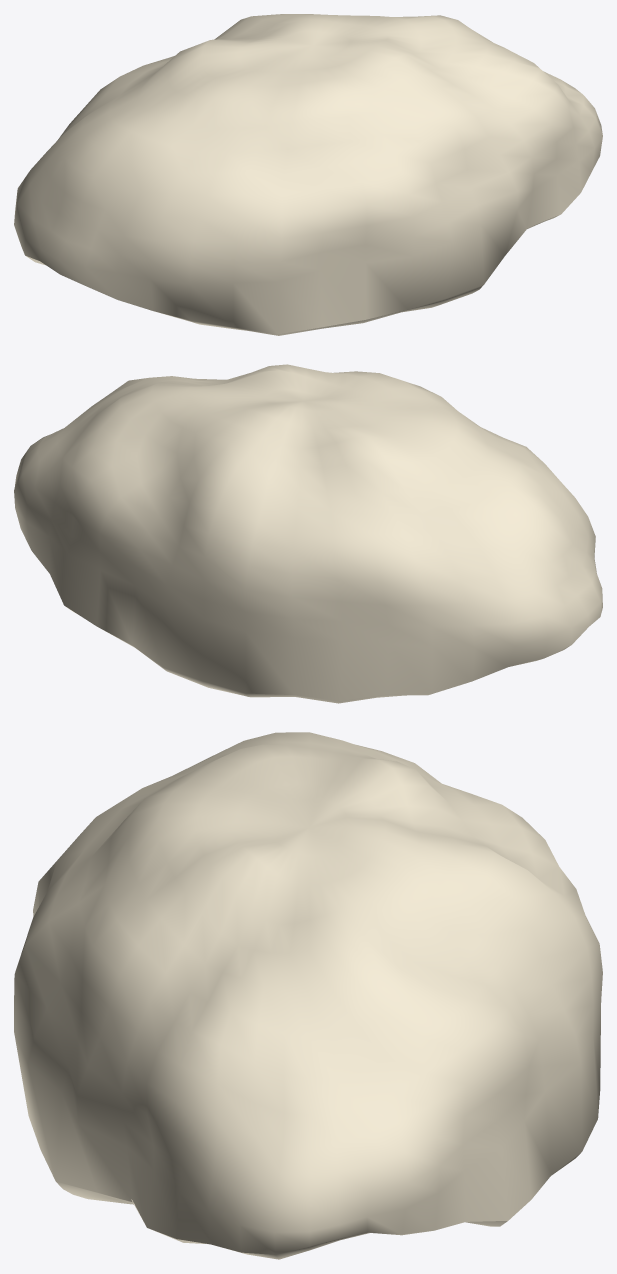
The model's file is cowrie_c5.glb.
3 views of the same model, one above another, from view 1: azimuth 30°, elevation 25°; view 2: azimuth 150°, elevation 25°; view 3: azimuth 270°, elevation 25° (orthographic). The views are drawn at different scales.
Visible parts, largest first — view 1: cowrie_c5; view 2: cowrie_c5; view 3: cowrie_c5.
Boxes of the visible parts, box(x1,y1,x2,y2) form: cowrie_c5: box(14, 14, 602, 335); cowrie_c5: box(14, 364, 602, 703); cowrie_c5: box(14, 732, 602, 1259).
Bounding box in the file's own units: 0.0238 × 0.00919 × 0.0149.
